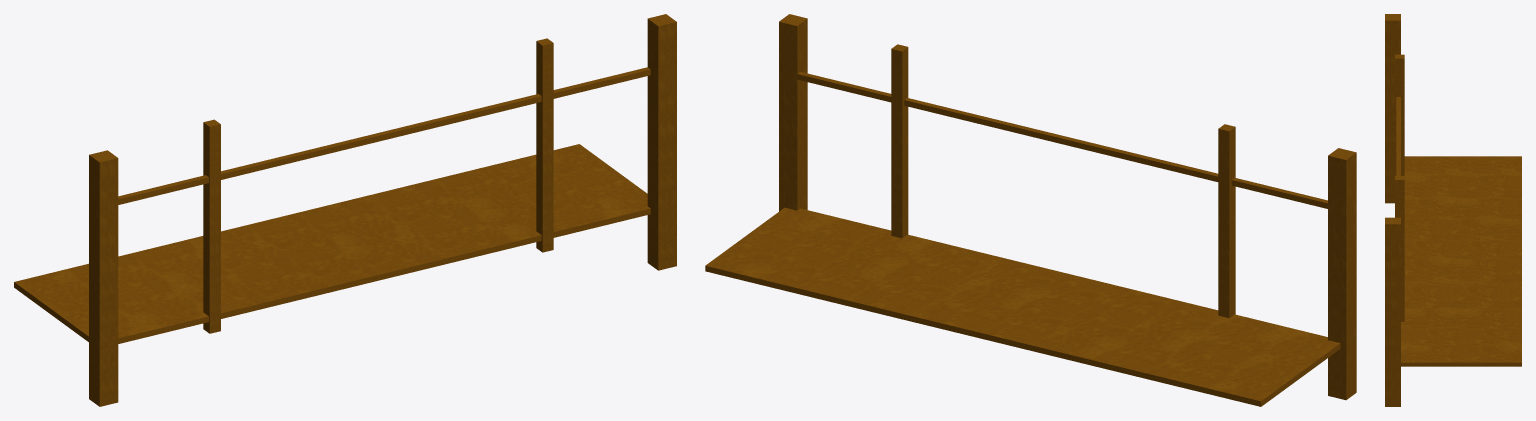
File: doujou_wood_front.obj
3 views of the same model, side by side, from view 1: azimuth 30°, elevation 25°; view 2: azimuth 150°, elevation 25°; view 3: azimuth 270°, elevation 25° (orthographic). The views are drawn at different scales.
Visible parts, largest first — view 1: 立方体.226; view 2: 立方体.226; view 3: 立方体.226.
Part boxes in pixels (x1,y1,x2,y2): 立方体.226: (14, 14, 676, 406); 立方体.226: (705, 14, 1356, 406); 立方体.226: (1385, 14, 1521, 406).
Size of the model in its own units: 514 by 210 by 141.
1 material, 1 textured.
